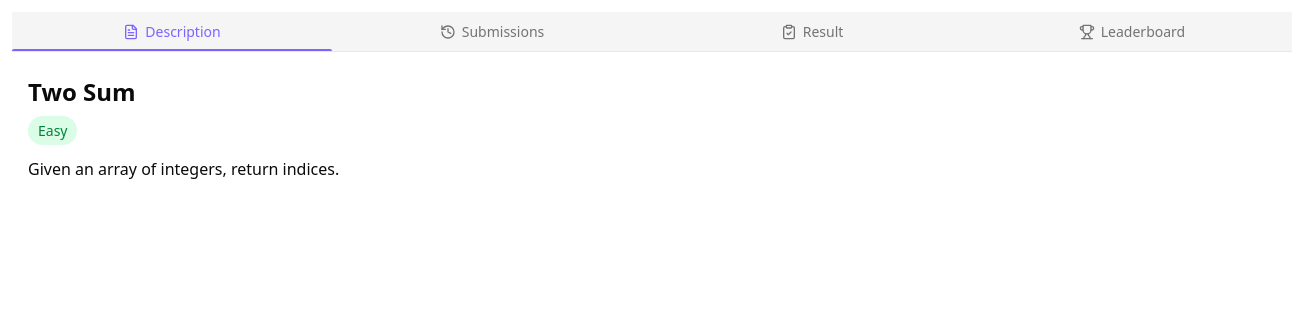
Test case: CodeDescArea — tab switching › switches to submissions tab
Expected: the element with test id "tabs-list" is shown, [12,12,1292,52]
Step 1. Click the tab "Submissions" → {"x": 492, "y": 32}, box [332,12,652,51]
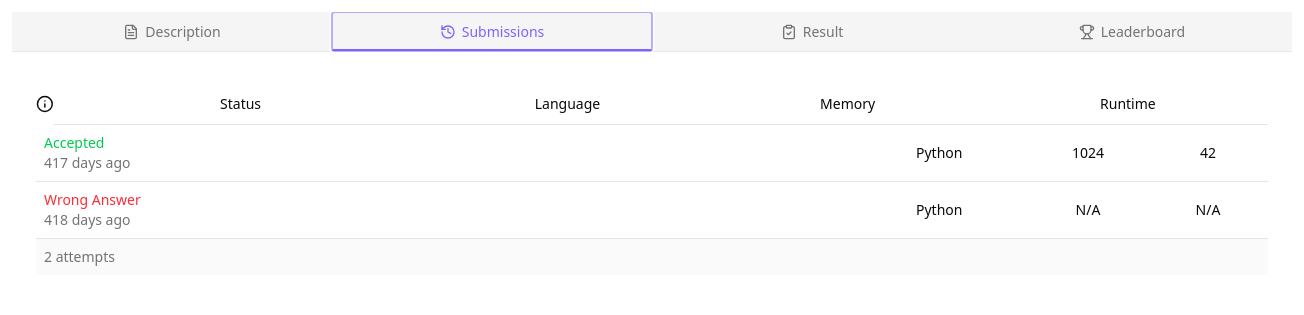
Expected: the panel with test id "tabs-content-submissions" is shown
